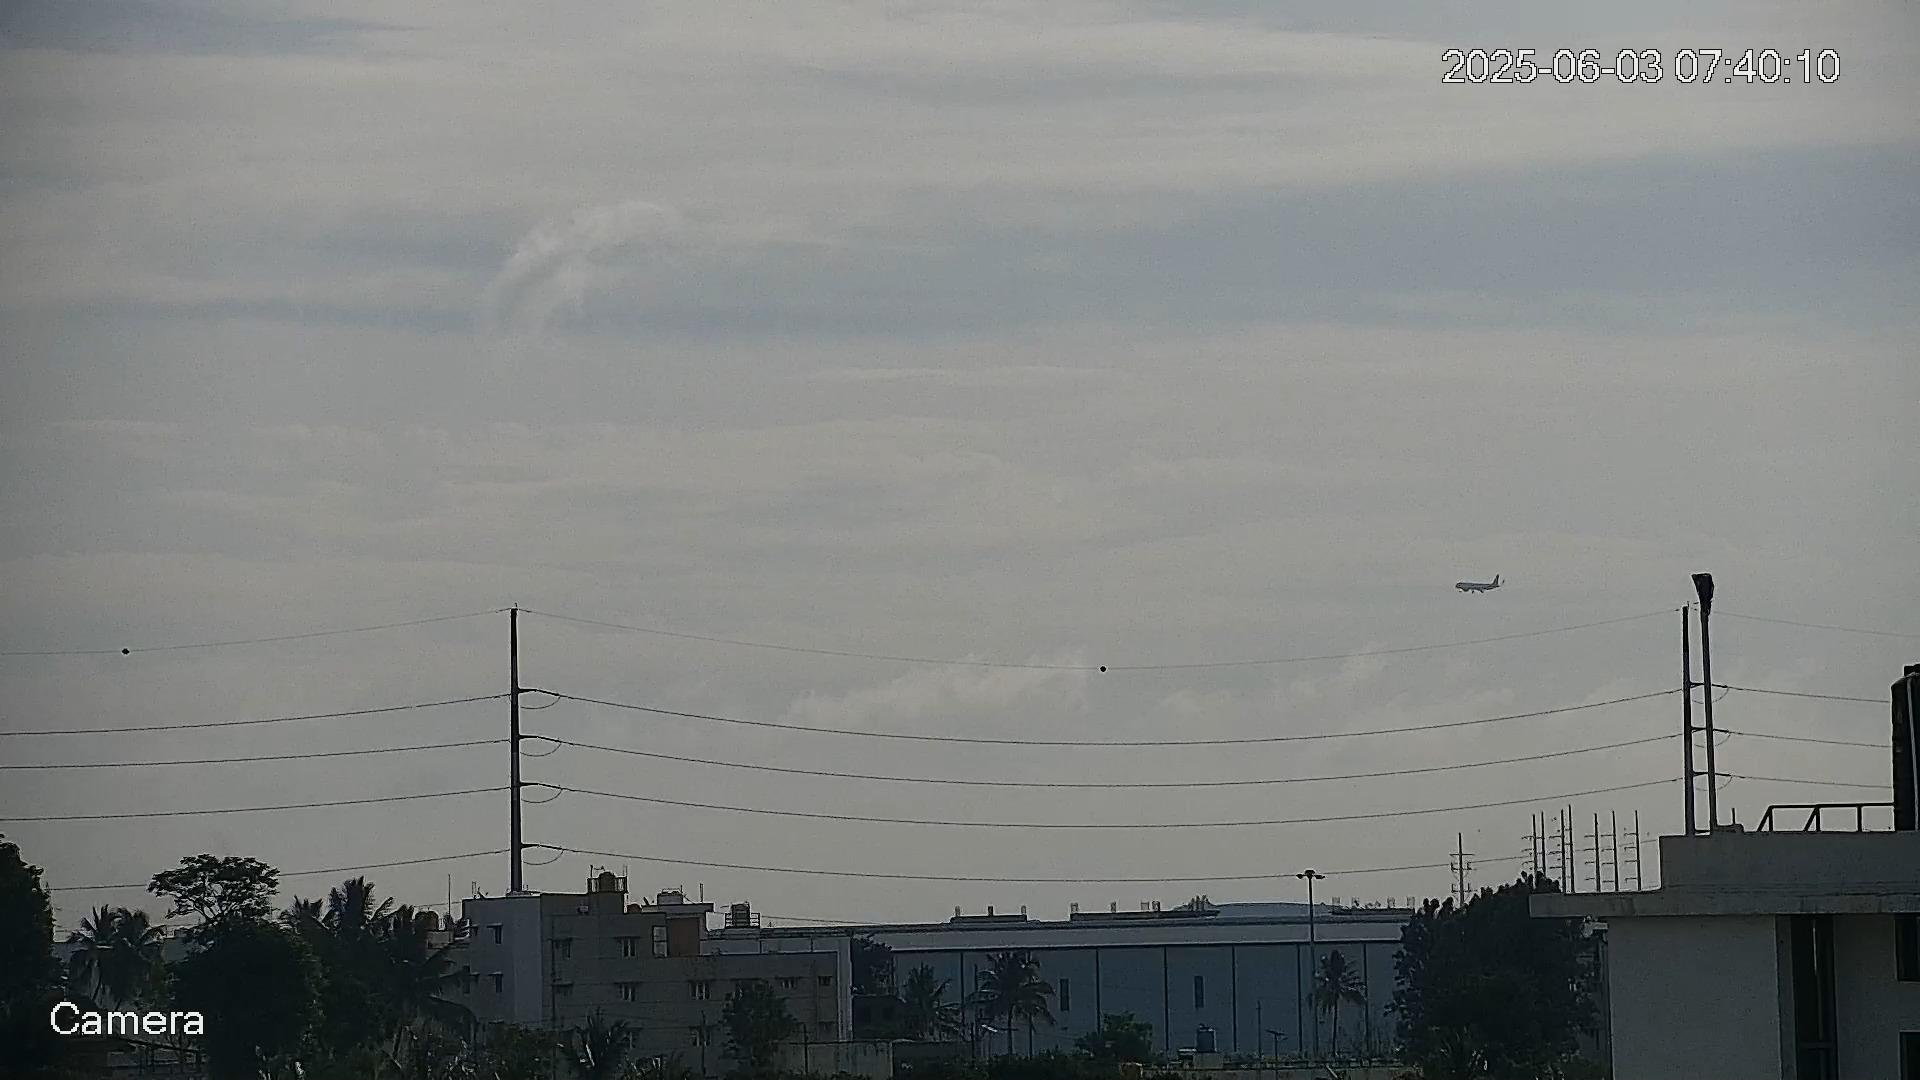Aircraft: (1455, 574, 1505, 597)
